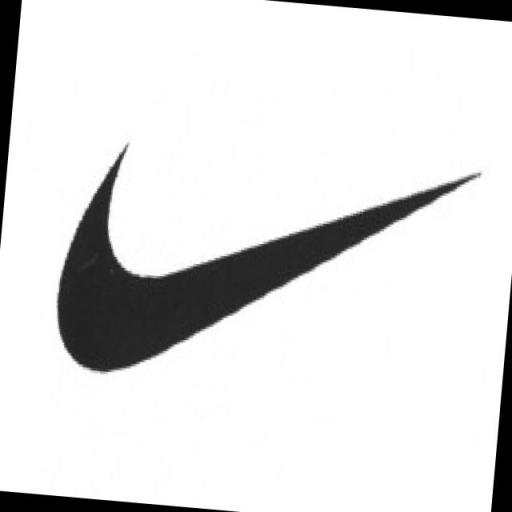Nike: (43, 108, 494, 411)
